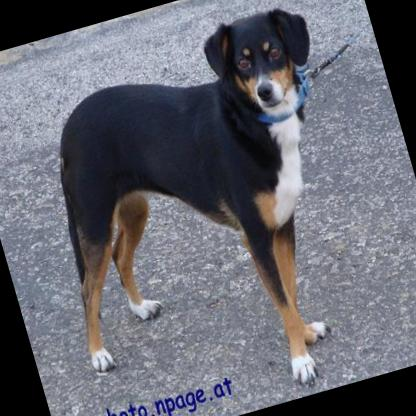Appenzeller: (10, 0, 401, 416)
